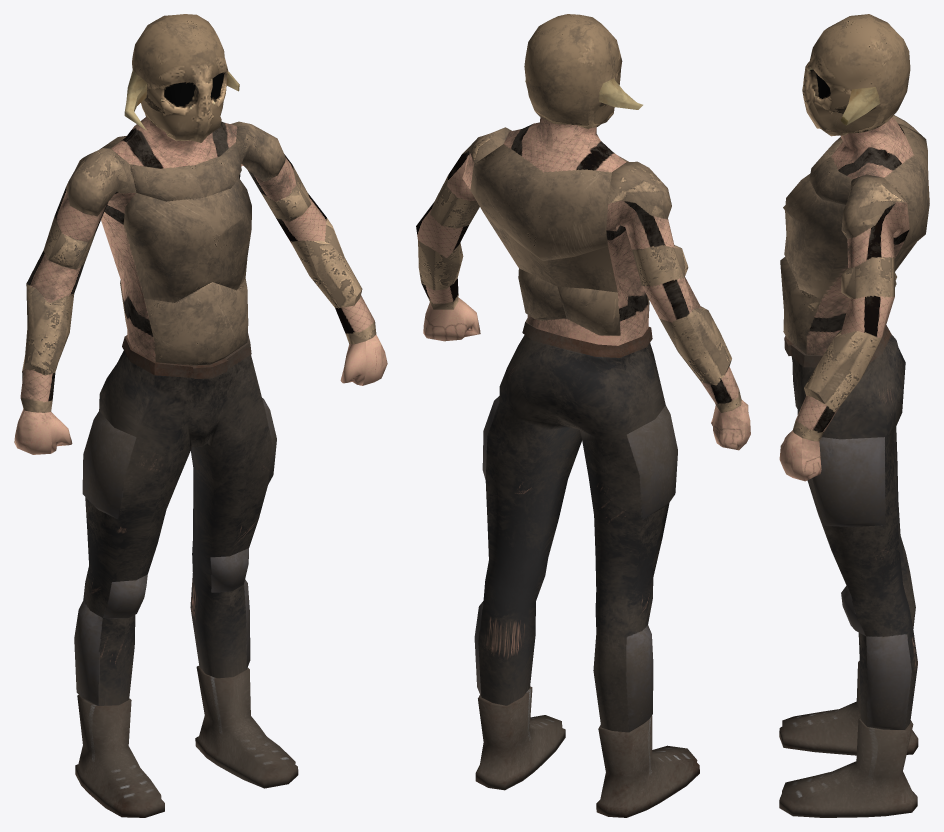
File: Anim_idle_npc1.0033.obj
3 views of the same model, side by side, from view 1: azimuth 30°, elevation 25°; view 2: azimuth 150°, elevation 25°; view 3: azimuth 270°, elevation 25° (orthographic).
Visible parts, largest first — view 1: NPC2; view 2: NPC2; view 3: NPC2.
Part boxes in pixels (x1,y1,x2,y2): NPC2: (14, 14, 387, 817); NPC2: (416, 14, 750, 817); NPC2: (779, 14, 929, 817).
Size of the model in its own units: 4.59 by 9.66 by 1.74.
